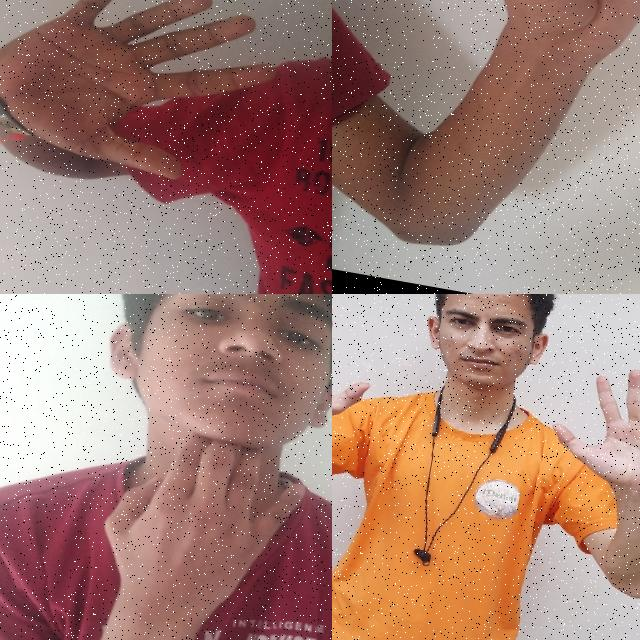Chin Flick: (57, 294, 332, 640)
Corna: (417, 0, 640, 89)
Moutza: (0, 0, 295, 208), (539, 348, 640, 509), (332, 294, 390, 457)
